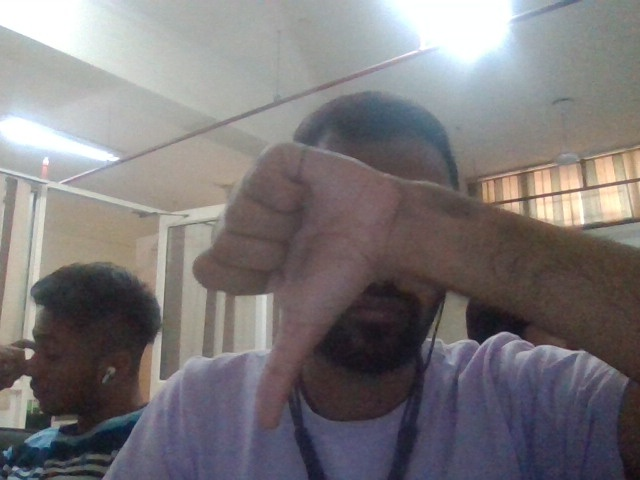No: (191, 138, 404, 430)
